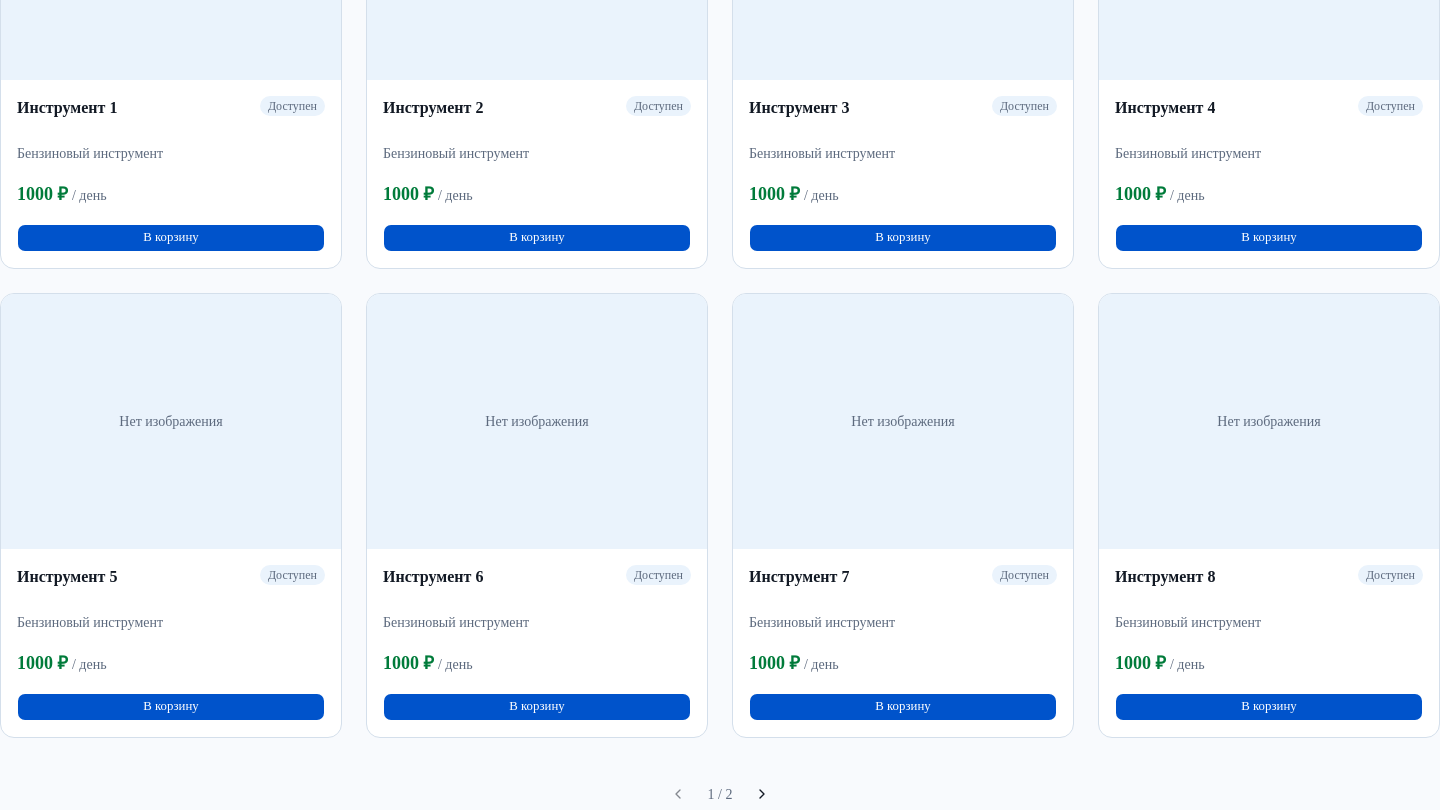
CatalogList › переключается на следующую страницу
(page scrolled)
Check: the text "1 / 2" is shown, box [708,787,732,802]
Step 1. Click the button named "Следующая страница" → (762, 794), box [746,778,778,809]
(page scrolled)
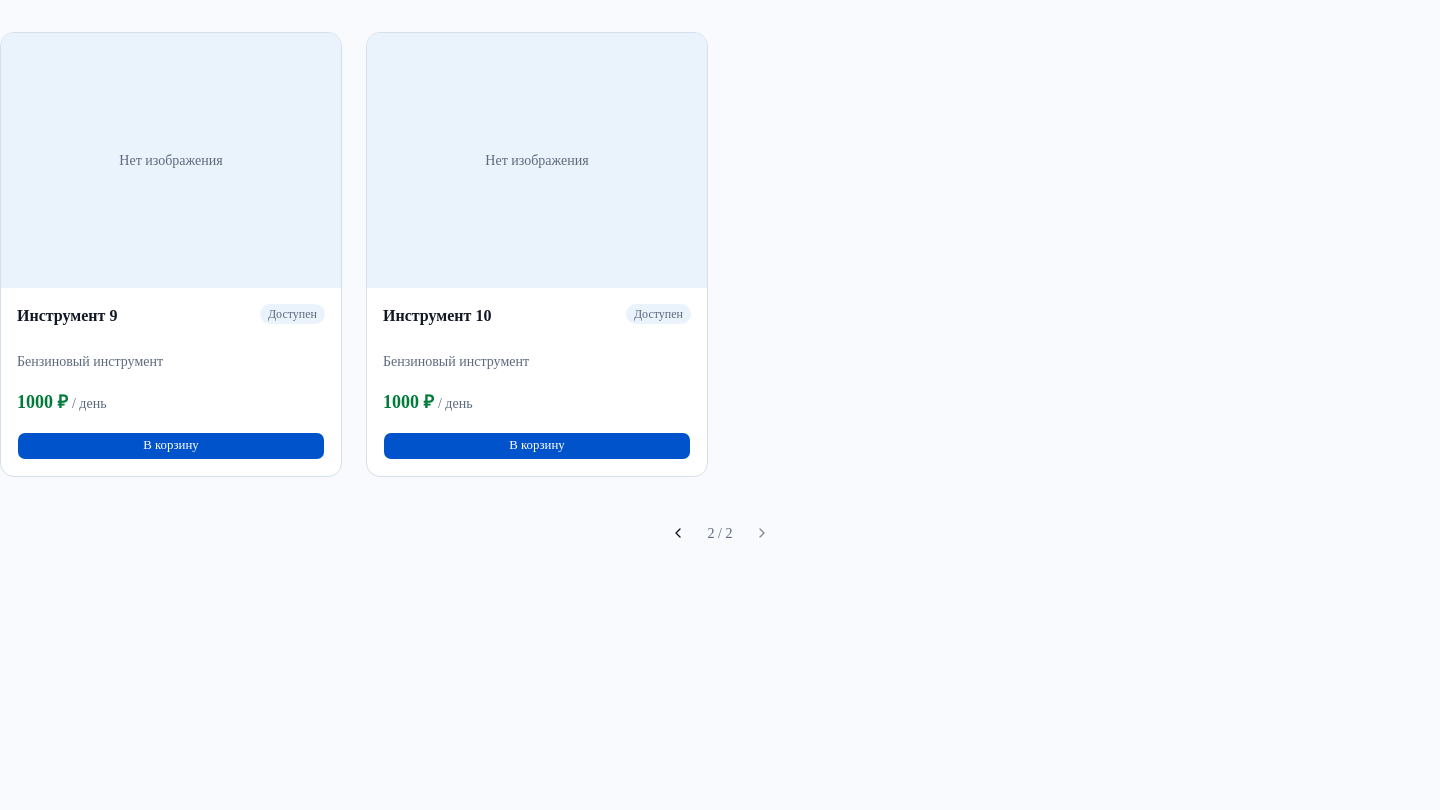
Check: the heading "Инструмент 10" is shown, box [383,307,491,324]
Check: the text "2 / 2" is shown, box [708,526,732,541]
Check: the heading "Инструмент 9" is shown, box [17,307,117,324]
